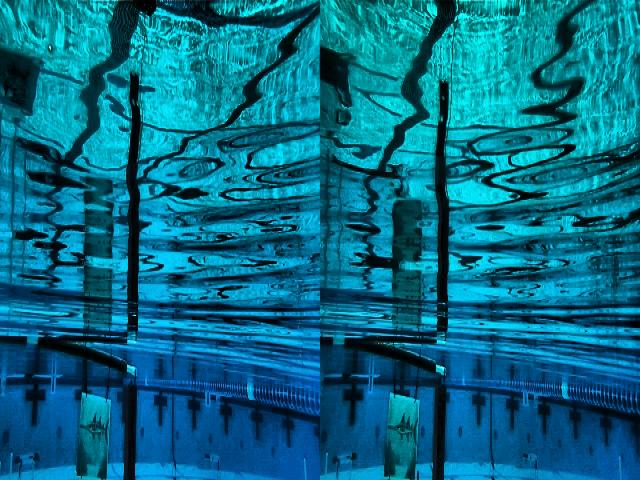gate: (0, 326, 147, 480), (318, 328, 454, 480)
octagon_table: (522, 452, 539, 480), (204, 454, 222, 480)
octagon_top: (196, 390, 232, 414), (513, 389, 550, 410)
sawfish: (78, 390, 113, 480), (384, 392, 420, 477)
